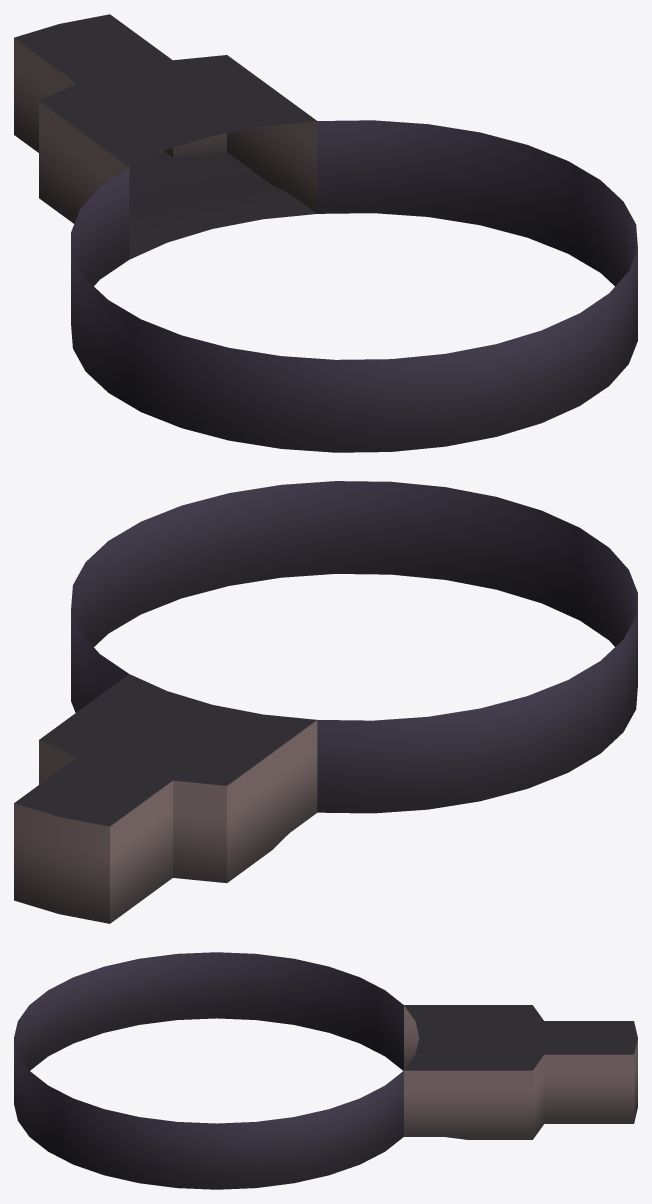
The model's file is ChunkEnd.glb.
3 renders of one model, top to bottom at view 1: azimuth 30°, elevation 25°; view 2: azimuth 150°, elevation 25°; view 3: azimuth 270°, elevation 25°, orthographic. The views are drawn at different scales.
Parts seen in each view (by area): view 1: ChunkEnd; view 2: ChunkEnd; view 3: ChunkEnd.
Boxes of the visible parts, box(x1,y1,x2,y2) form: ChunkEnd: box(14, 14, 637, 452); ChunkEnd: box(14, 481, 637, 923); ChunkEnd: box(14, 952, 637, 1189).
Size of what is drawn, in the model's own units: 60 by 11.33 by 92.37.
Materials: 1 (1 with a texture image).
